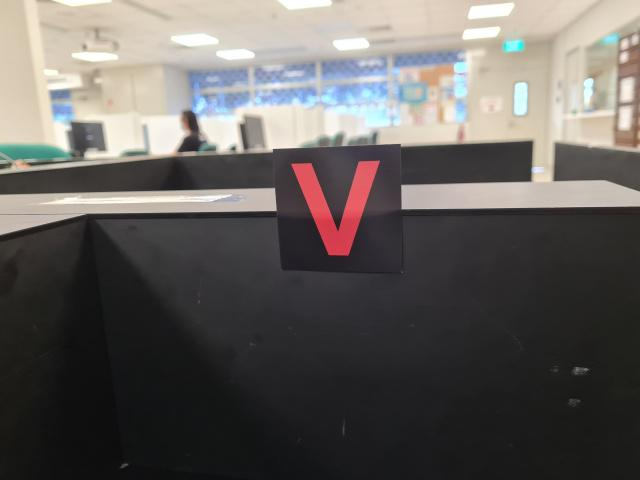v: (272, 145, 403, 274)
